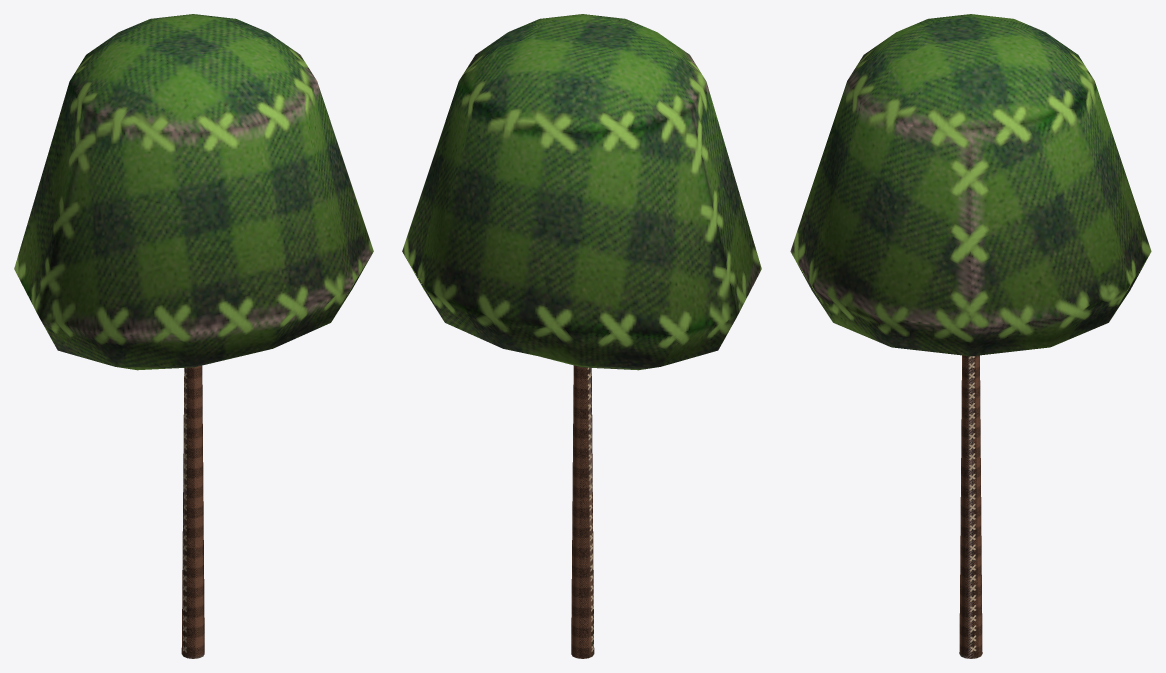
The model's file is lpb_cs_tree21.fbx.
The picture shows the model from 3 angles, left to right: view 1: azimuth 30°, elevation 25°; view 2: azimuth 150°, elevation 25°; view 3: azimuth 270°, elevation 25°; orthographic projection.
Parts seen in each view (by area): view 1: lpb_cs_tree21; view 2: lpb_cs_tree21; view 3: lpb_cs_tree21.
Part boxes in pixels (left/top/right/bottom): lpb_cs_tree21: left=14, top=14, right=373, bottom=658; lpb_cs_tree21: left=402, top=14, right=761, bottom=658; lpb_cs_tree21: left=790, top=14, right=1151, bottom=658.
Size of the model in its own units: 89.6 by 170 by 90.24.
